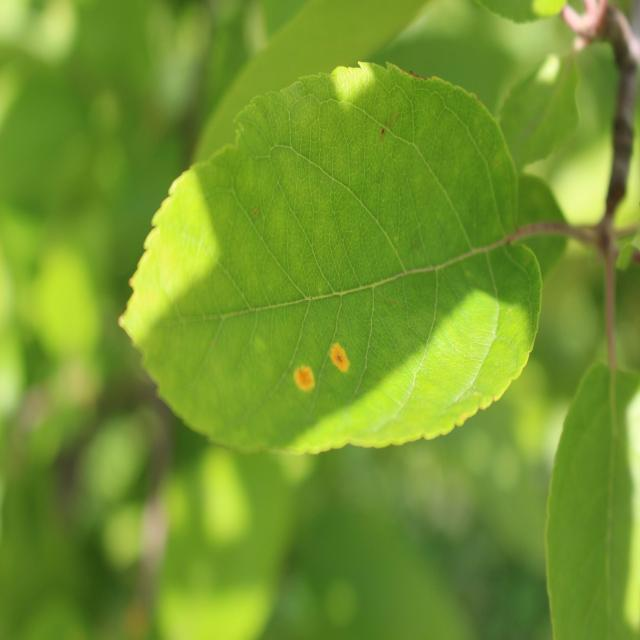Rust: (328, 328, 360, 399), (293, 350, 321, 411)
